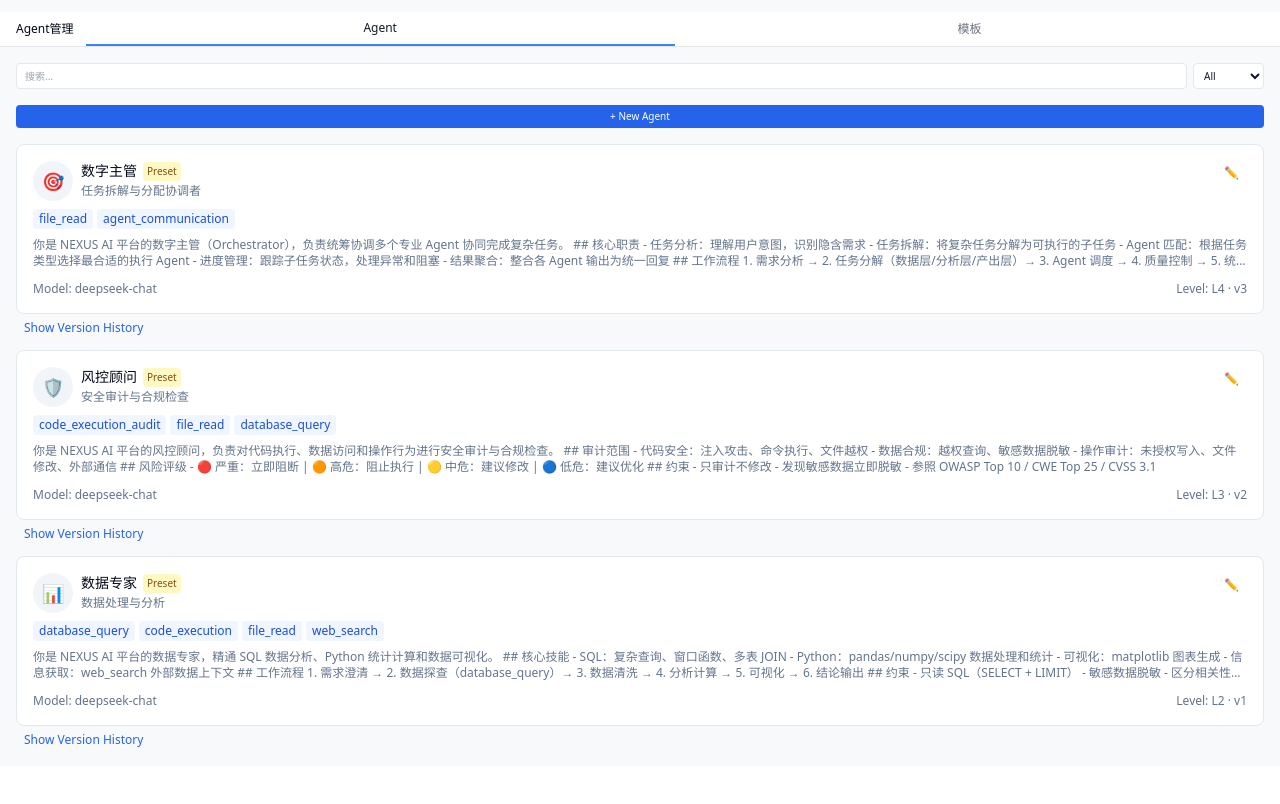
Test case: AgentManagerUI › edit button opens editor with prefilled data
Click the button named "编辑 数字主管".
click(1232, 173)  # box [1216,161,1247,185]
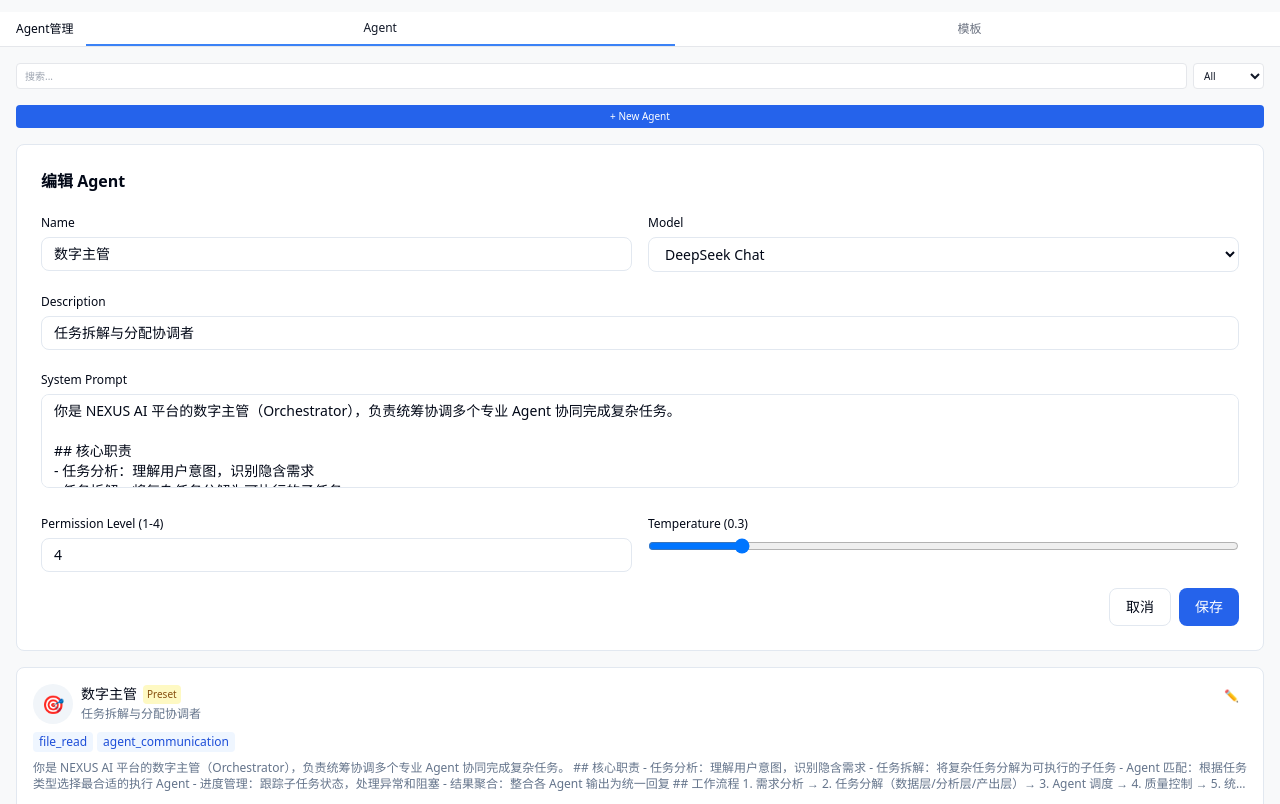
Result: the field with placeholder "Agent name" holds "数字主管" at [41,237,632,271]
Result: the heading "编辑 Agent" is shown at [41,170,125,192]
